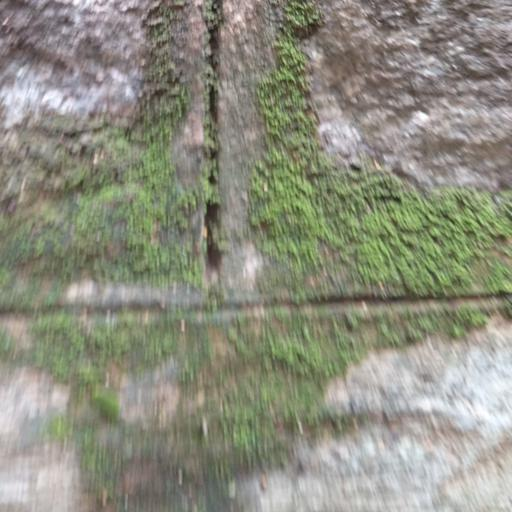algae: (0, 23, 511, 438)
